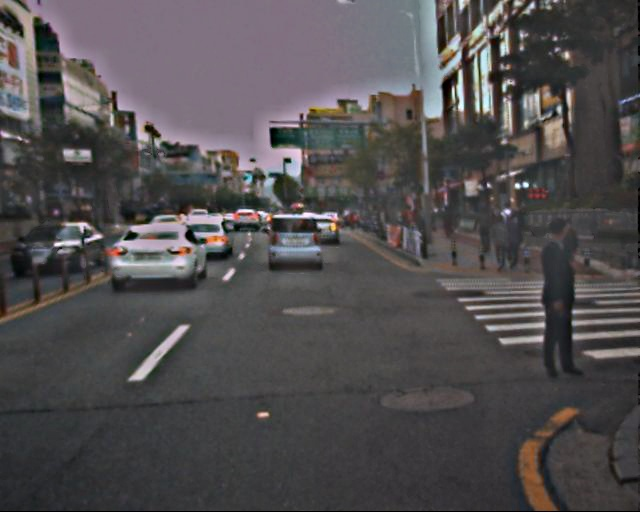person: (519, 219, 585, 381), (489, 217, 510, 269), (474, 203, 495, 253), (504, 218, 524, 266), (498, 201, 518, 249), (441, 206, 454, 238)
